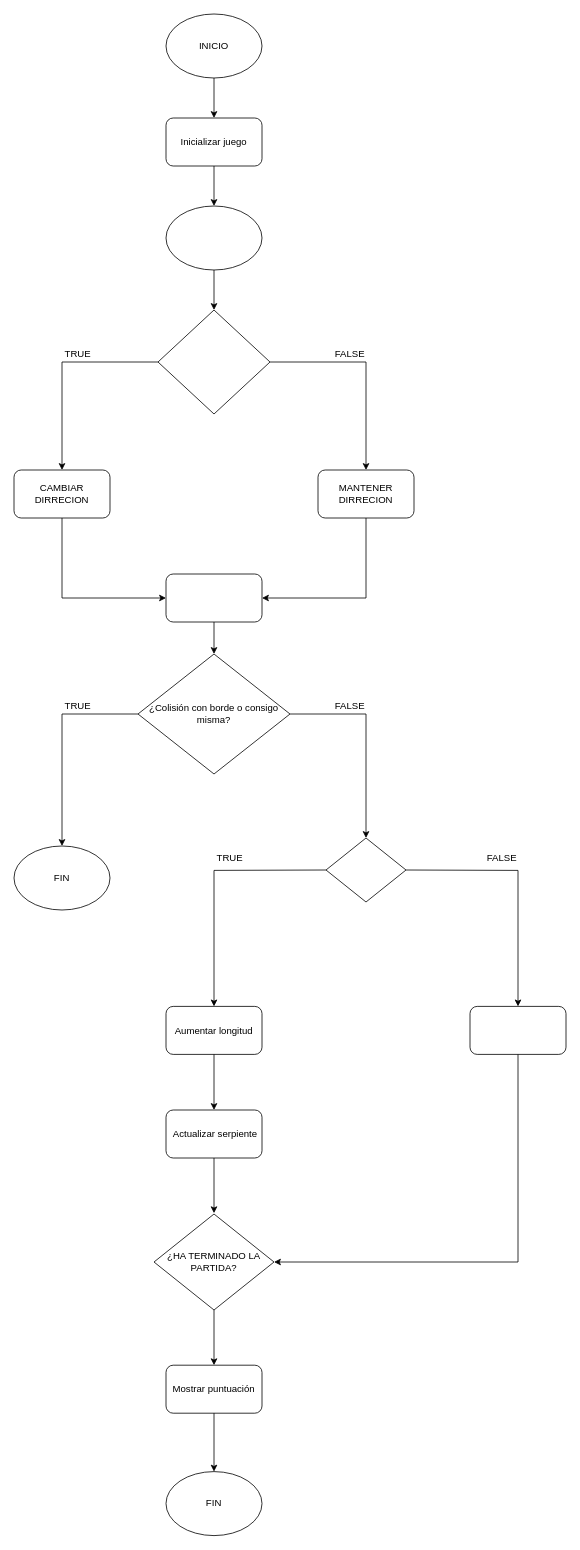
The diagram is 580 pixels wide and 1550 high, and some of its shapes have lost their labels. Each missing label, with the centre of its shape:
BUCLE PRINCIPAL: pixel 213 237
Mantener longitud: pixel 517 1030
MOVER SERPIENTE: pixel 213 597
¿Cabeza toca comida?: pixel 365 869
¿Se pulsa tecla de dirección?: pixel 213 361
